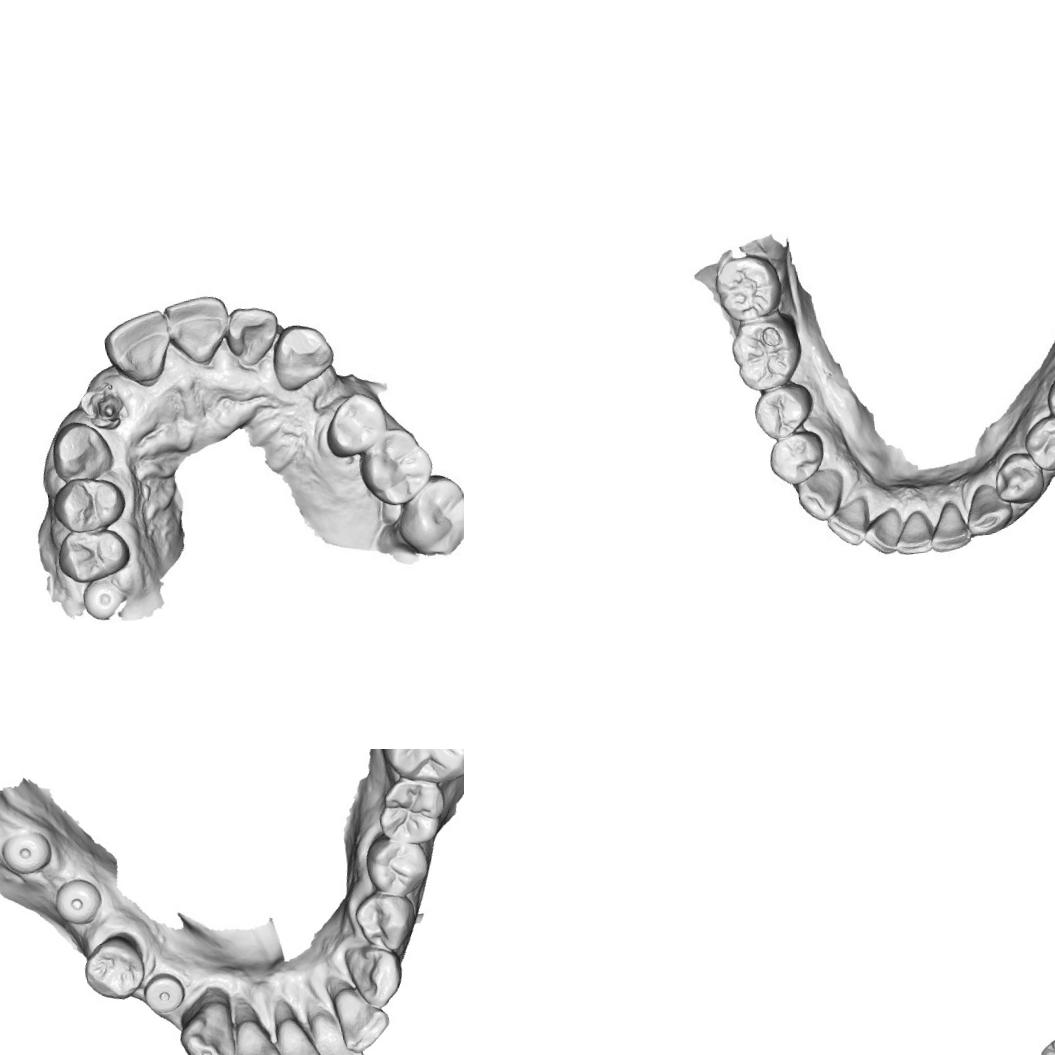canine: (266, 317, 340, 393), (340, 940, 408, 1013), (47, 415, 114, 488), (176, 999, 239, 1055), (958, 482, 1014, 540), (794, 468, 842, 520)
implant: (52, 874, 105, 928), (0, 826, 54, 878), (140, 970, 188, 1016), (90, 386, 131, 430)
incisor: (106, 313, 175, 386), (330, 984, 393, 1055), (164, 296, 230, 362), (230, 304, 280, 365), (310, 1007, 366, 1055), (826, 497, 873, 550), (858, 508, 904, 558), (927, 498, 968, 554), (227, 1017, 284, 1055), (271, 1016, 325, 1055), (894, 508, 934, 558)
molar: (356, 420, 441, 507), (392, 468, 464, 563), (372, 773, 450, 850), (727, 312, 804, 387), (715, 253, 777, 321), (377, 749, 464, 788)
premolar: (80, 930, 150, 1004), (362, 832, 432, 899), (321, 390, 385, 459), (352, 890, 418, 956), (57, 474, 126, 533), (59, 528, 126, 581), (994, 453, 1048, 506), (754, 385, 807, 437), (770, 434, 821, 480), (1026, 421, 1055, 466)
